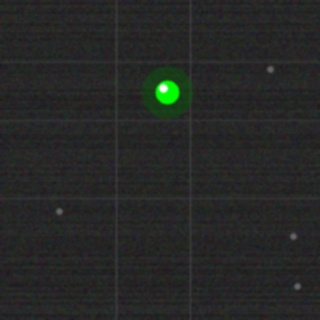green_normal: (153, 78, 181, 106)
